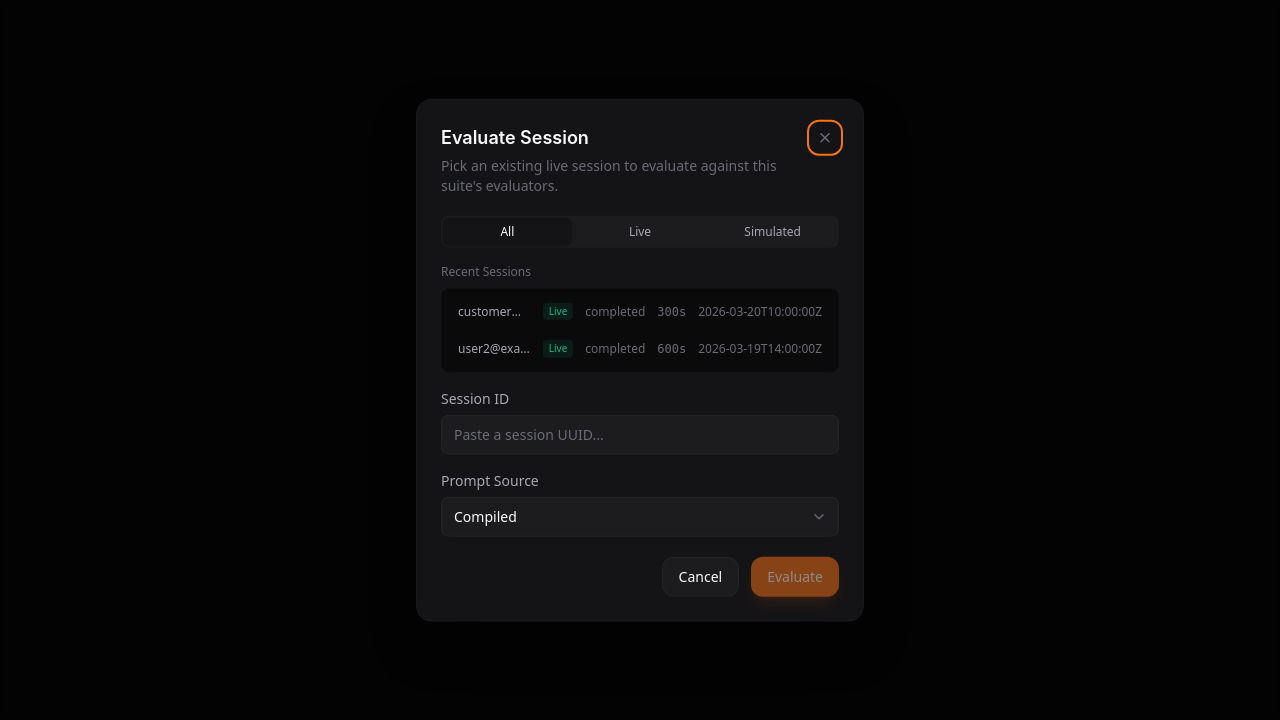
Test case: EvaluateSessionDialog › fills session ID when clicking a recent session
Click the text "customer@example.com".
click(494, 311)  # box [458,303,531,319]
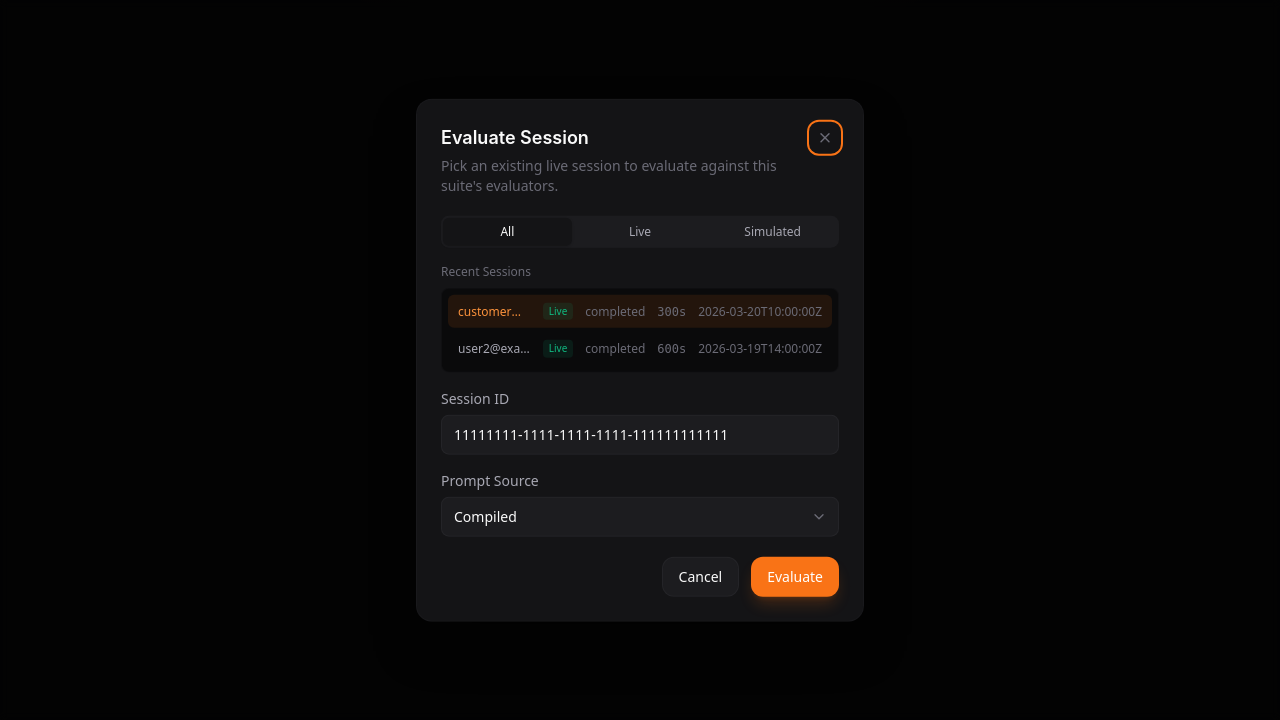
expect the field labelled "Session ID" holds "11111111-1111-1111-1111-111111111111": met, box [441,414,839,454]
